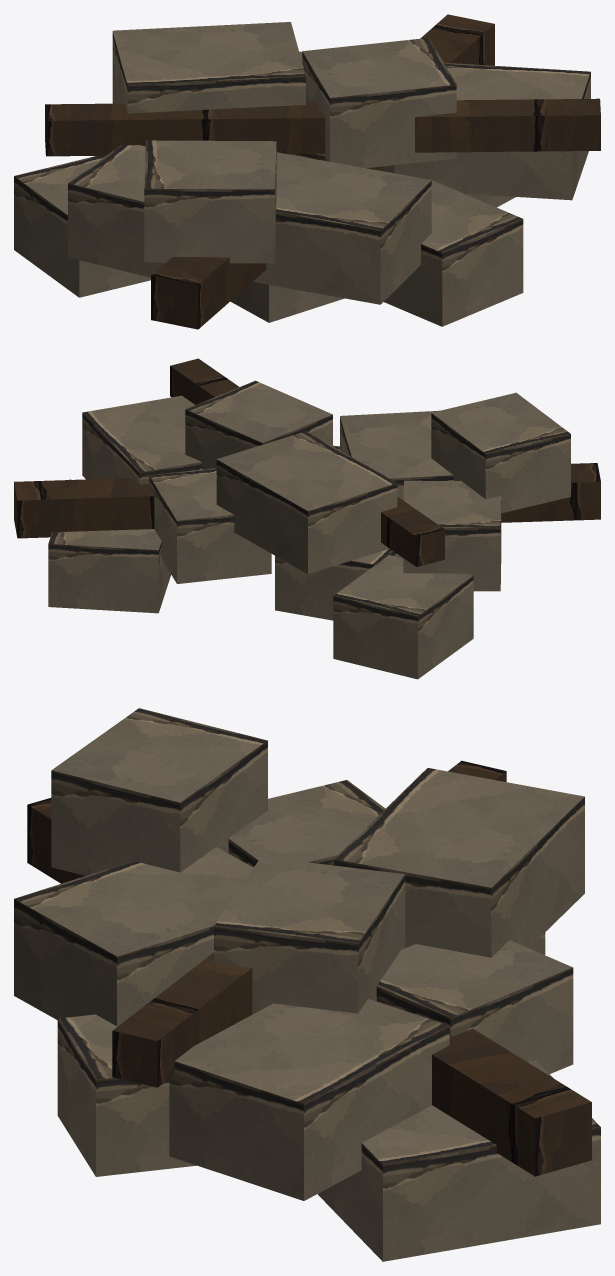
The model's file is rubble.glb.
3 renders of one model, top to bottom at view 1: azimuth 30°, elevation 25°; view 2: azimuth 150°, elevation 25°; view 3: azimuth 270°, elevation 25°, orthographic. The views are drawn at different scales.
Parts seen in each view (by area): view 1: rubble; view 2: rubble; view 3: rubble.
Boxes of the visible parts, left/top/right/bottom form: rubble: left=14, top=14, right=600, bottom=329; rubble: left=14, top=358, right=600, bottom=679; rubble: left=14, top=708, right=600, bottom=1261.
Size of the model in its own units: 1.85 by 0.61 by 1.37.
2 materials, 2 textured.
